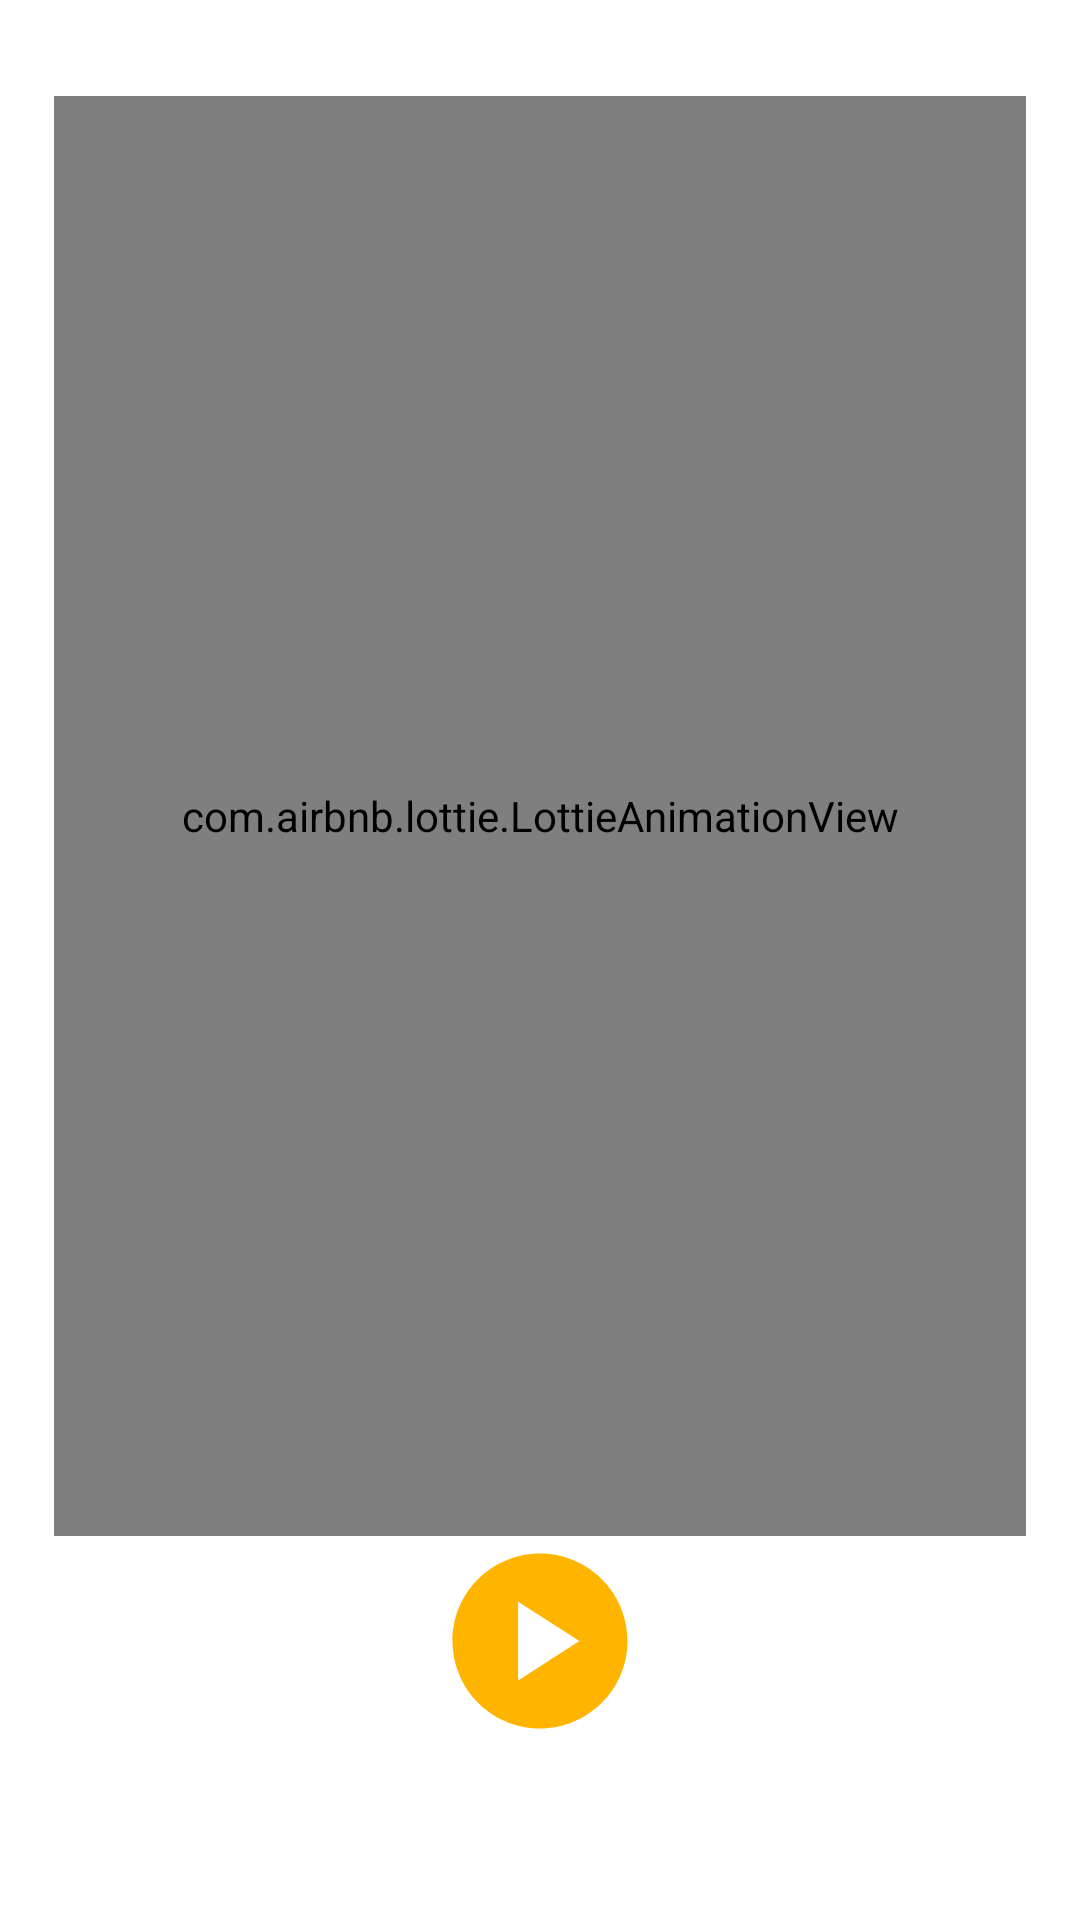

Icon click points for this 1080w x 1920h phone screenshot, format (x=x, y=y):
play: (x=540, y=1641)
